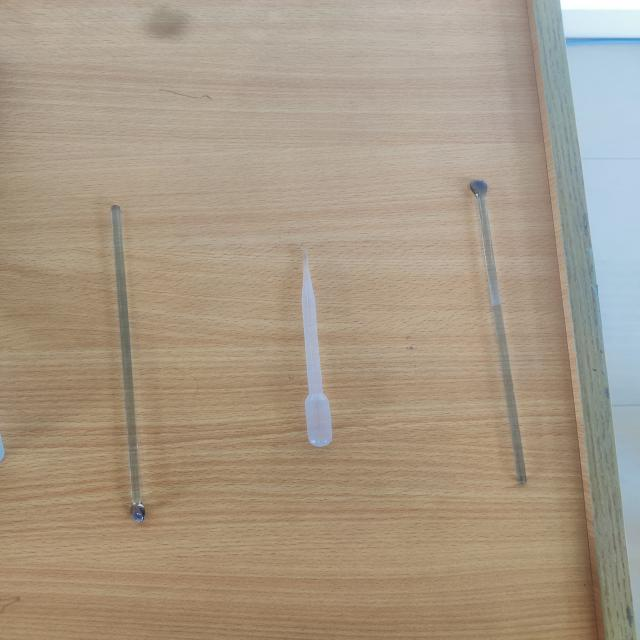Glass_Rod: (64, 176, 195, 537), (453, 148, 584, 508)
Pipette: (254, 226, 374, 485)
